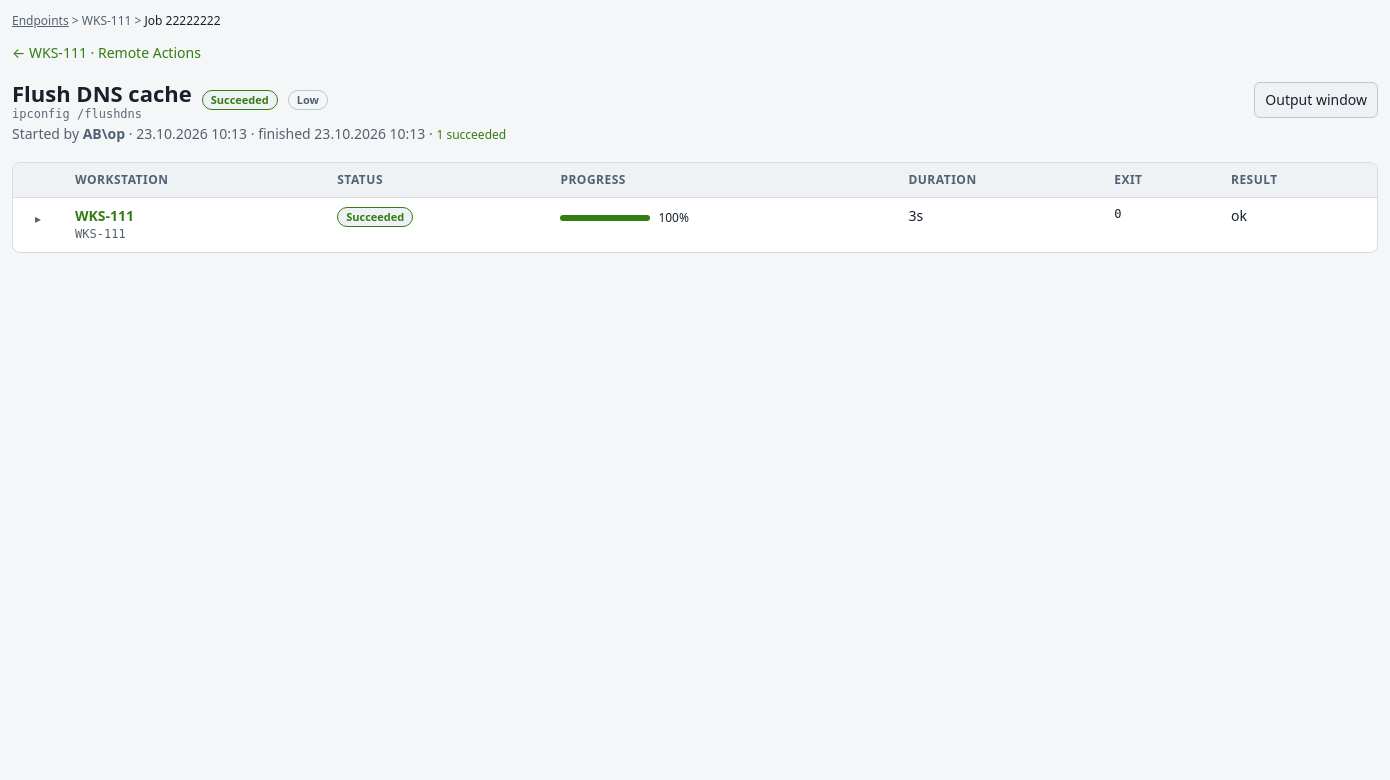
job navigation › returns to the originating action category with its search after a refresh
Click the link with test id "job-back" at (20, 53), box left=12, top=43, right=201, bottom=62
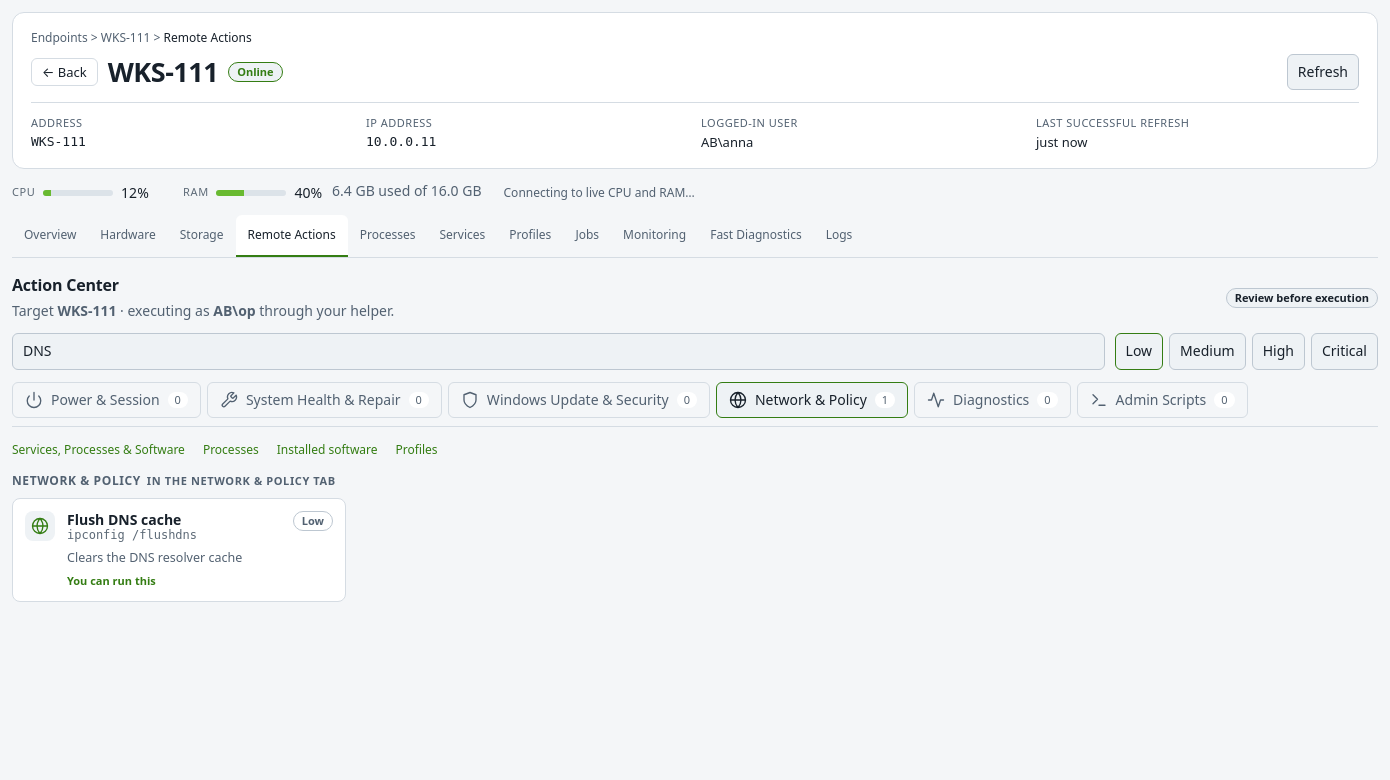
Expected: the search field named "Search actions" holds "DNS", left=12, top=333, right=1104, bottom=370
